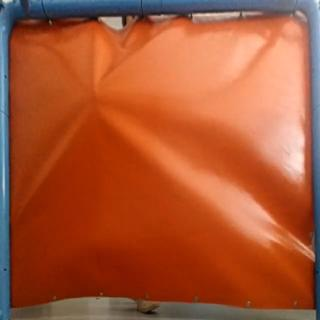Hit-hRxx: (88, 84, 102, 106)
